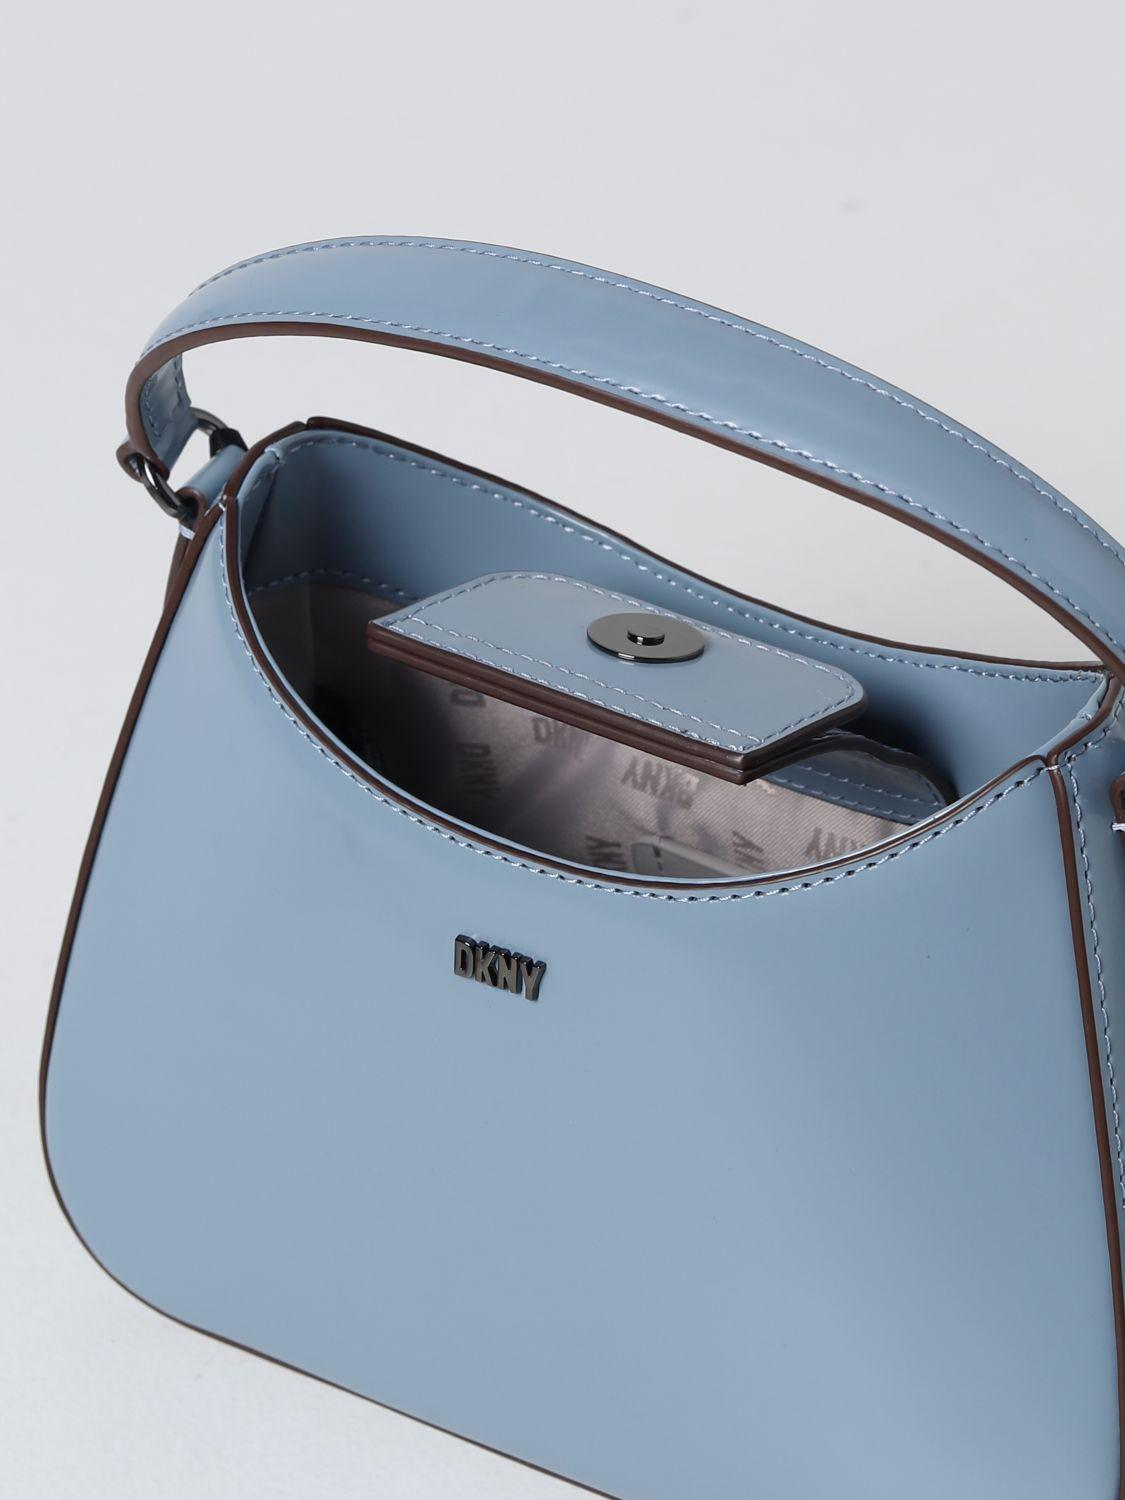DKNY: (454, 934, 547, 1002), (620, 758, 702, 810)
